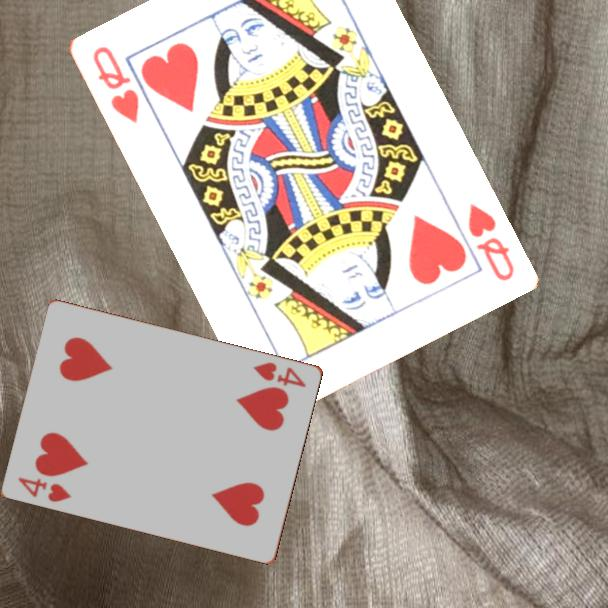h04: (15, 473, 75, 505), (250, 358, 309, 390)
h12: (463, 199, 517, 284), (88, 42, 142, 126)
